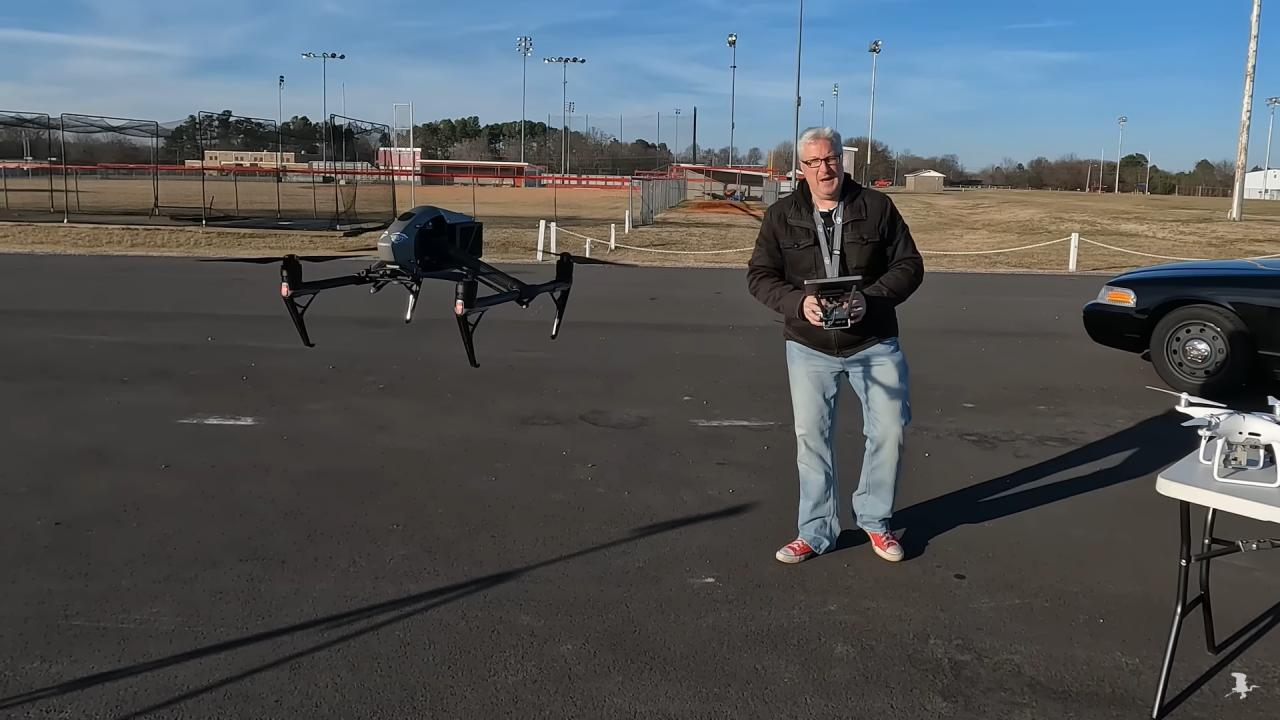Drone: (182, 186, 662, 392)
